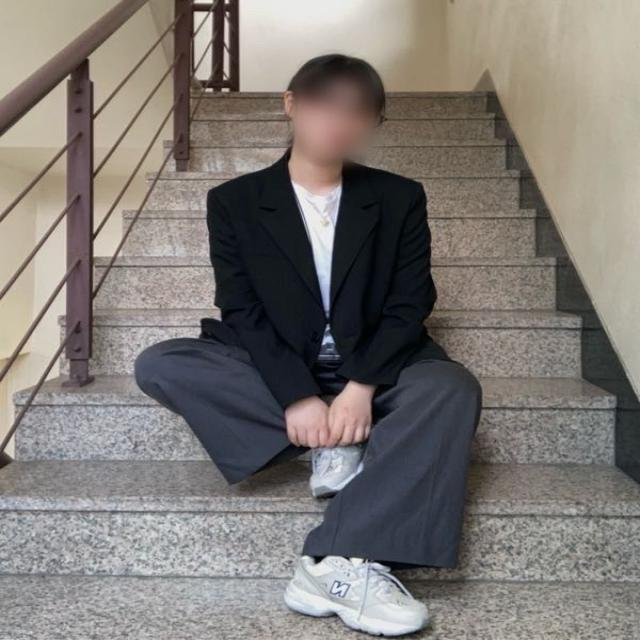blazer: (200, 146, 436, 398)
slacks: (130, 339, 482, 565)
